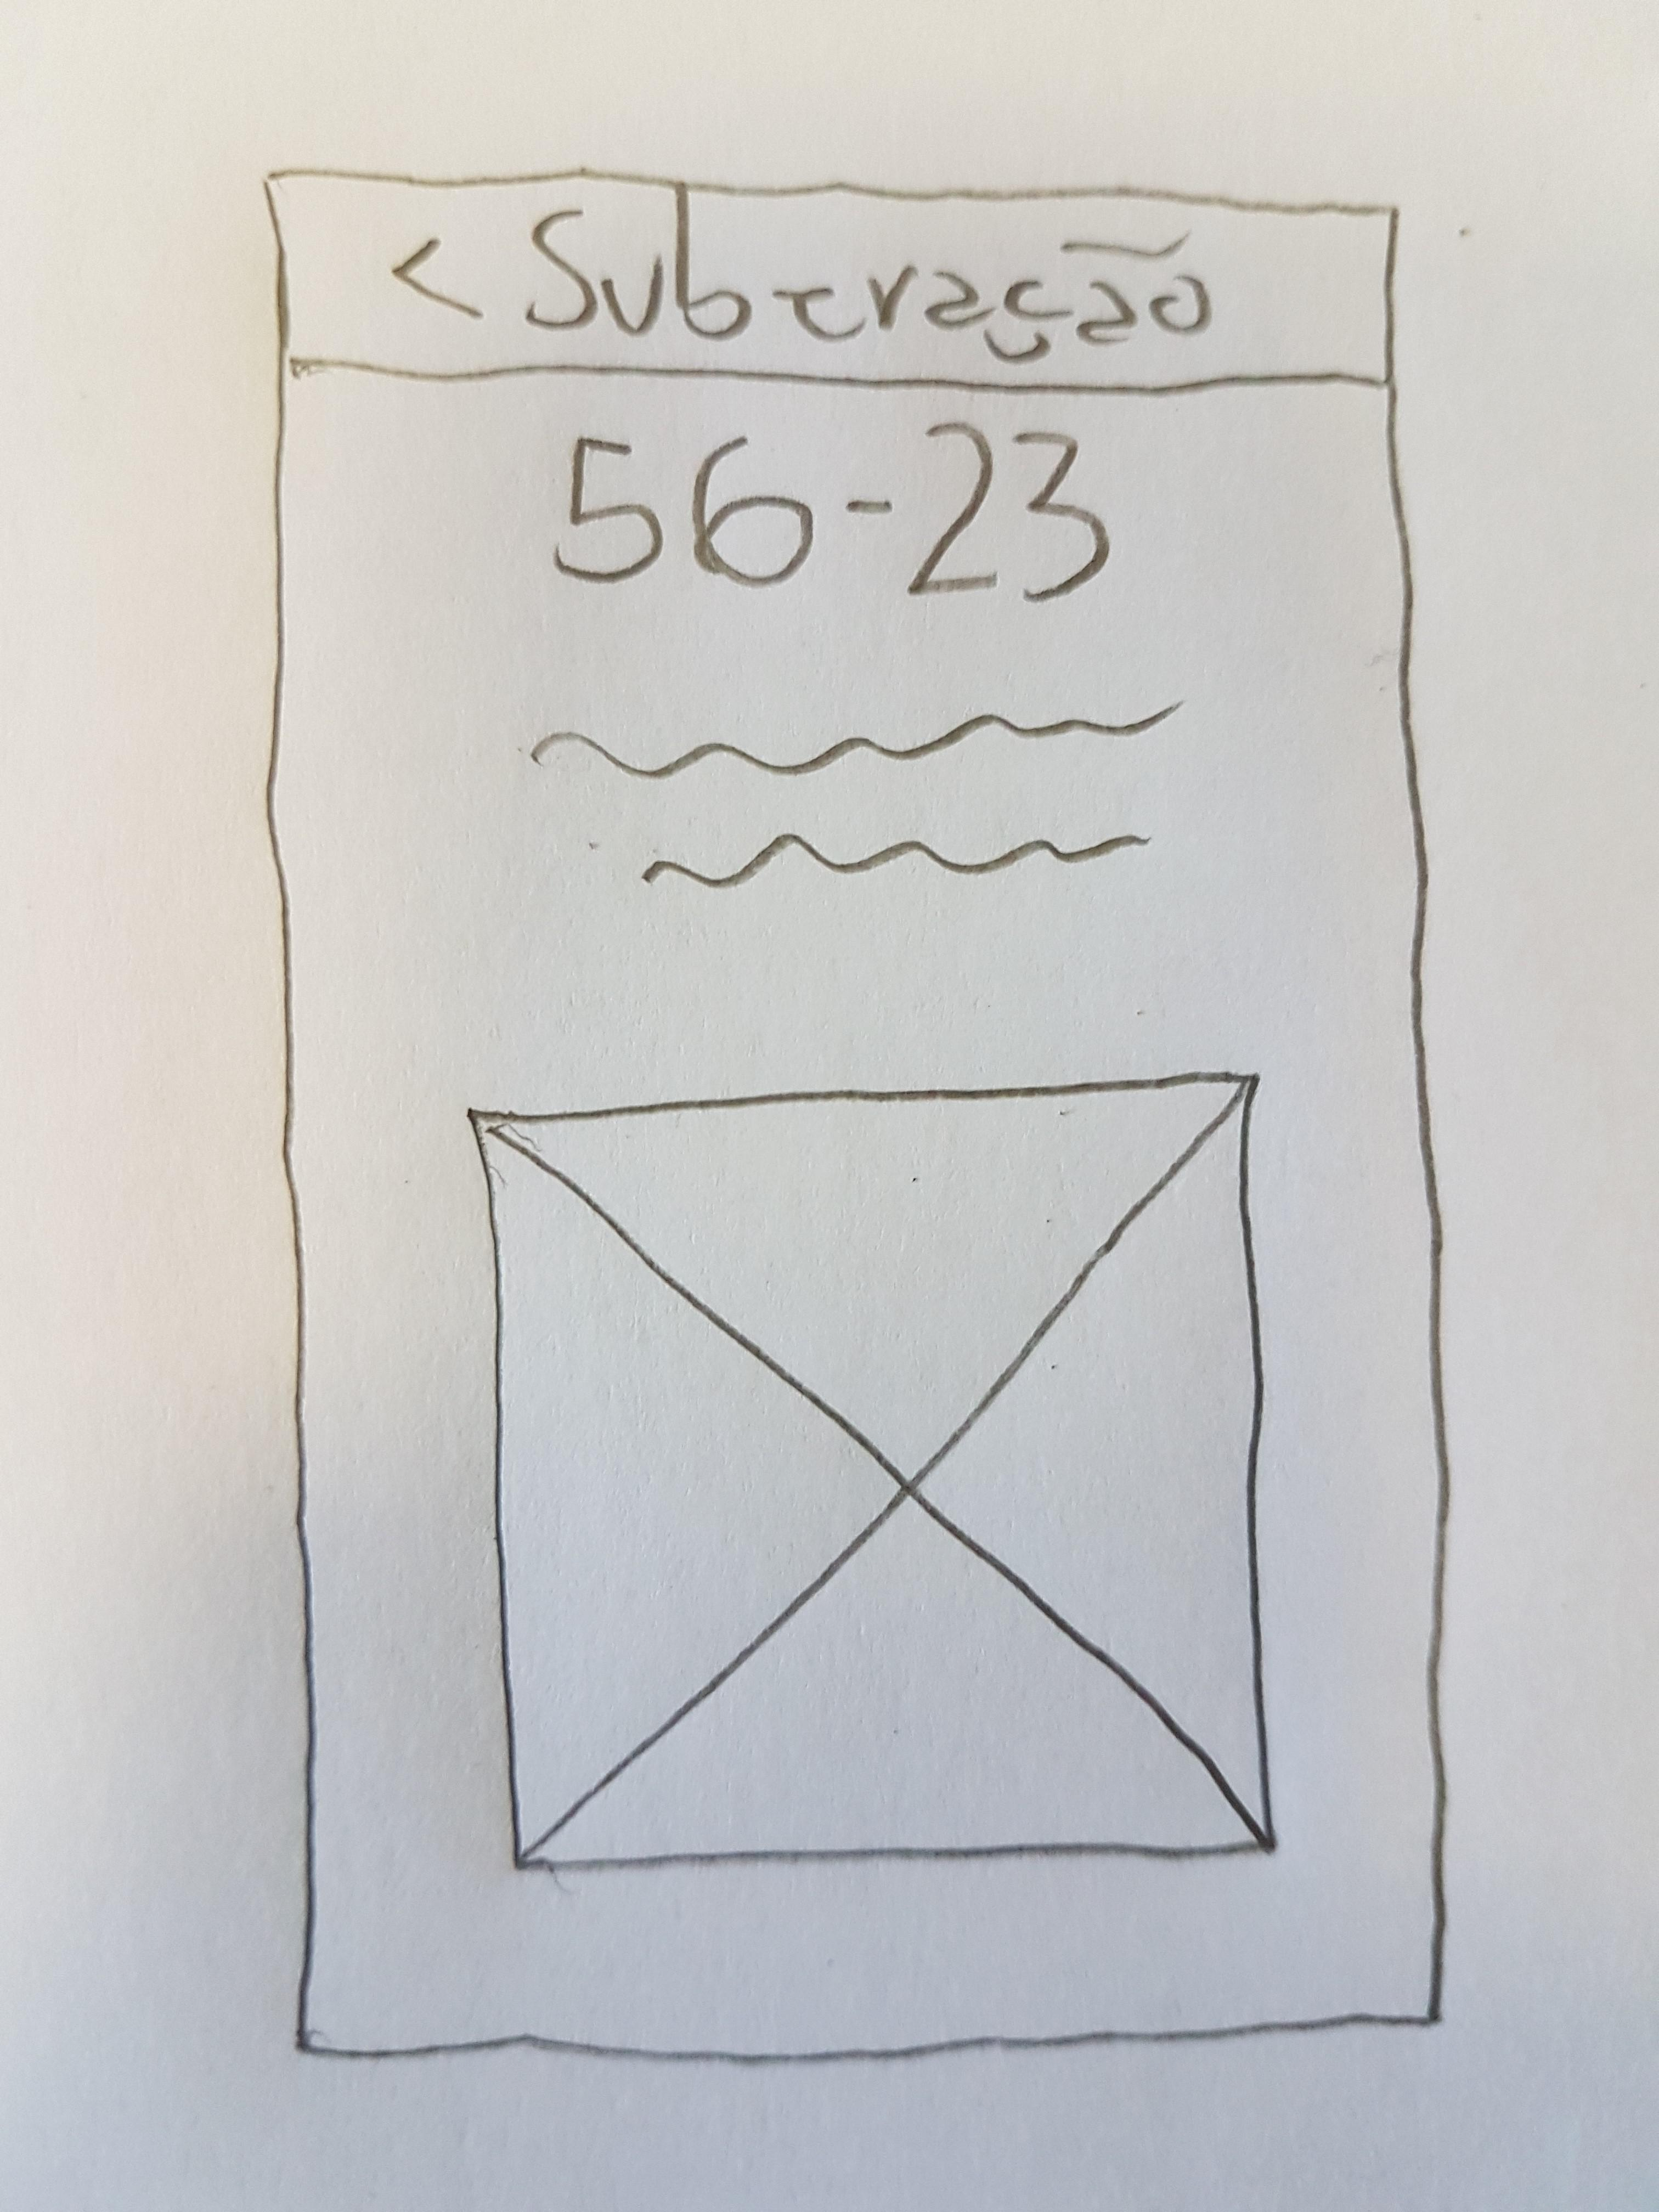Button: (378, 223, 491, 331)
Image: (471, 1069, 1267, 1871)
Label: (526, 704, 1182, 902), (533, 178, 1213, 362), (561, 411, 1117, 608)
Screen: (274, 165, 1441, 2059)
